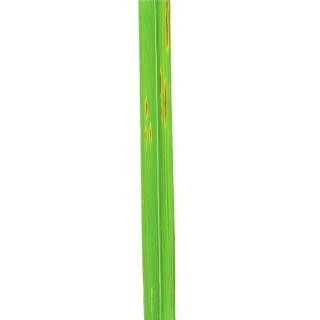Bercak-Cokelat-Sempit: (157, 0, 173, 58), (139, 121, 154, 149), (163, 80, 169, 128), (142, 95, 152, 119), (156, 64, 162, 100)
